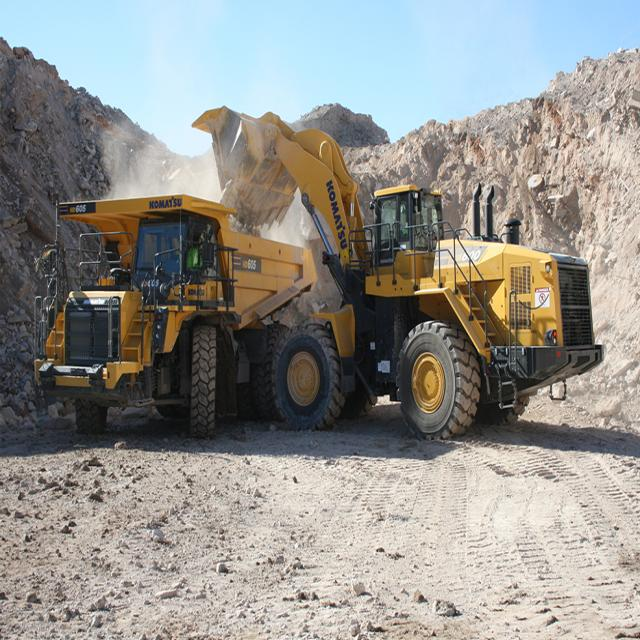buldozerpayloadergrader: (200, 95, 604, 442)
dump_truck: (24, 191, 326, 458)
